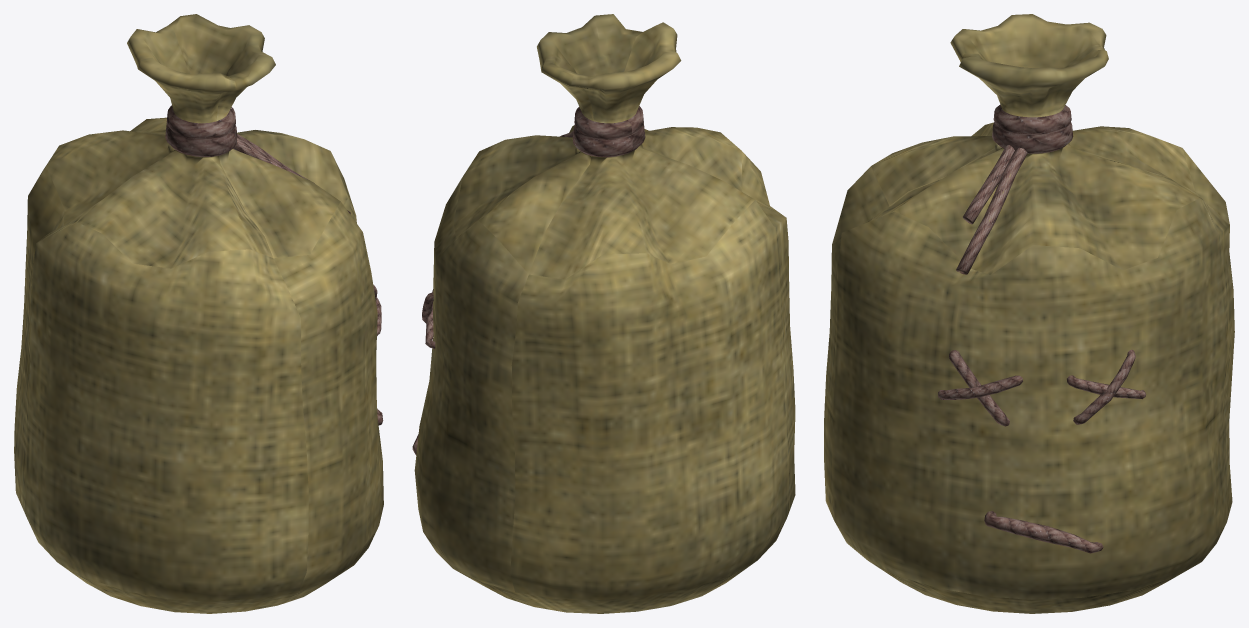
Rendered from head.fbx.
3 views of the same model, side by side, from view 1: azimuth 30°, elevation 25°; view 2: azimuth 150°, elevation 25°; view 3: azimuth 270°, elevation 25° (orthographic).
Visible parts, largest first — view 1: head; view 2: head; view 3: head.
Part boxes in pixels (x1=…): head: x1=14, y1=14, x2=383, y2=613; head: x1=412, y1=14, x2=795, y2=613; head: x1=824, y1=14, x2=1234, y2=613.
Bounding box in the file's own units: 0.2652 × 0.4118 × 0.2853.
